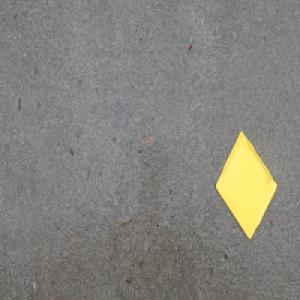PlasticPart: (214, 130, 278, 241)
